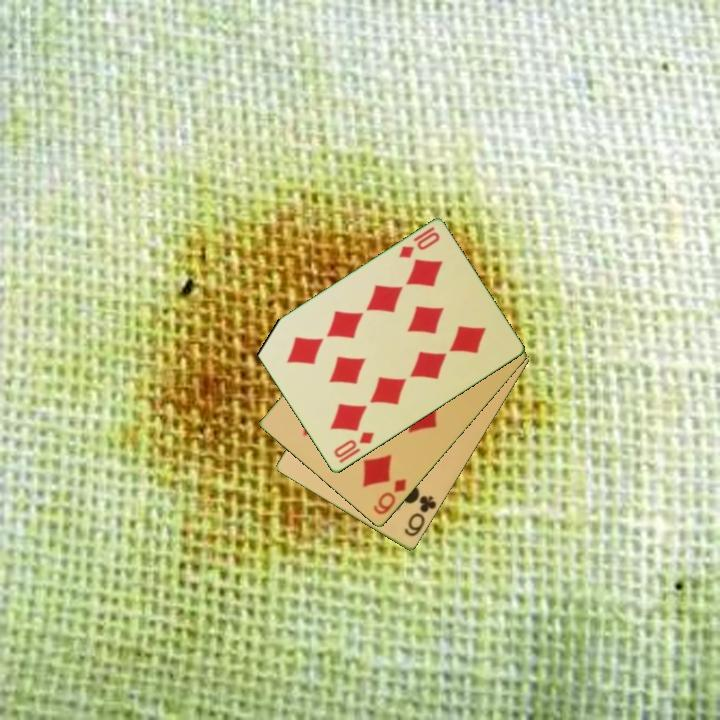10d: (395, 223, 443, 262), (330, 428, 377, 461)
6c: (400, 492, 439, 540)
6d: (370, 475, 409, 518)
